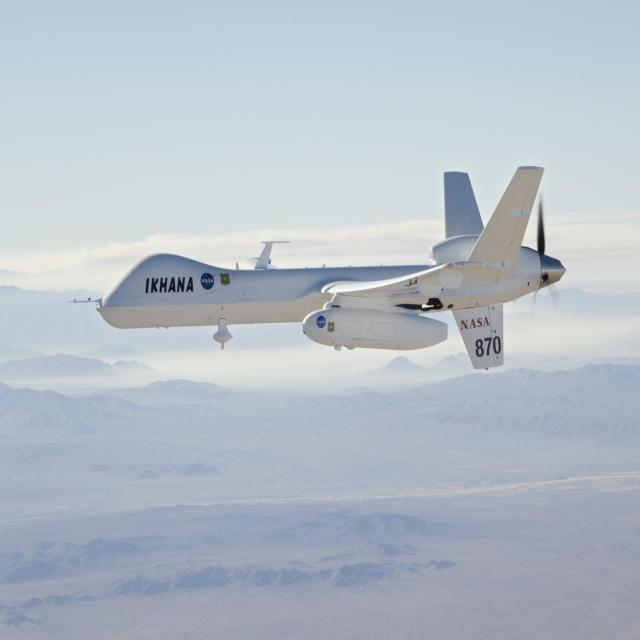iha: (70, 163, 569, 387)
